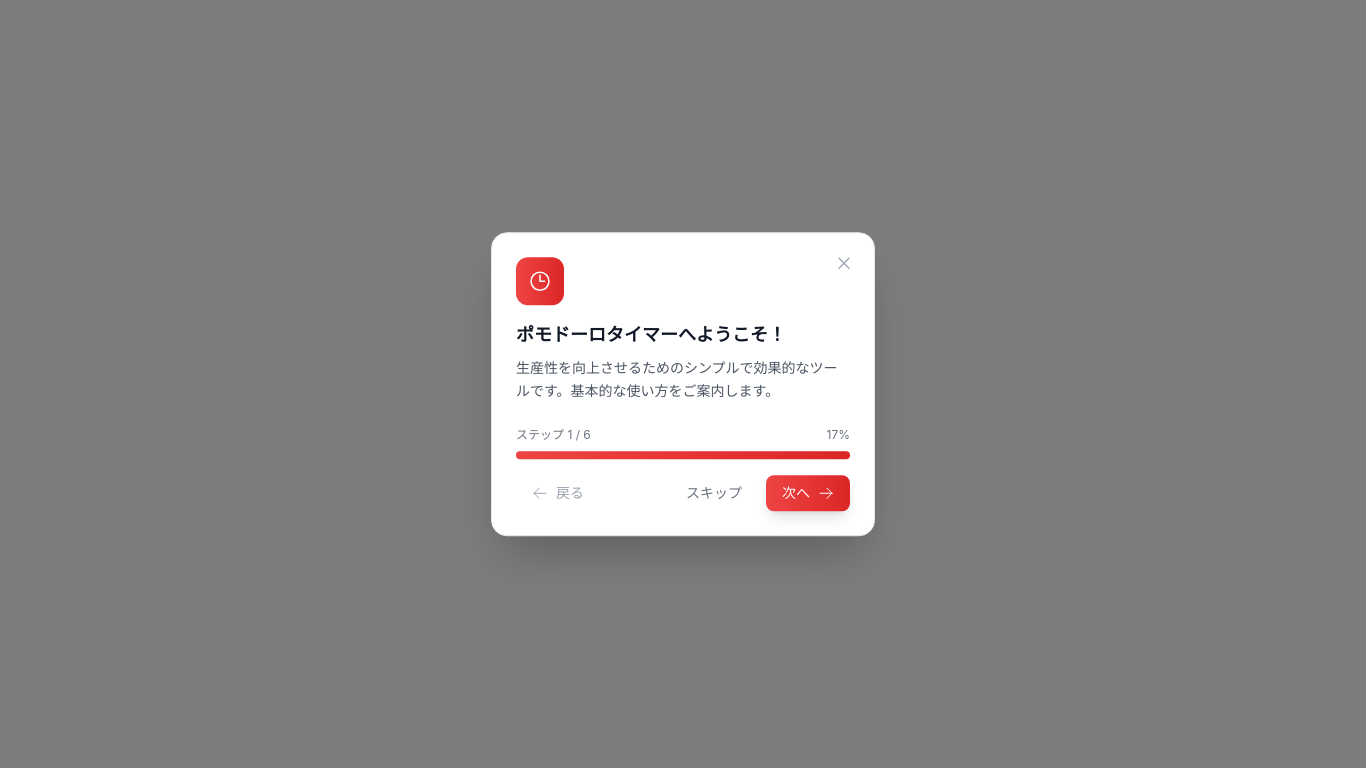
Test: OnboardingTour › 次へボタンをクリックすると次のステップに進む
The image size is (1366, 768).
Click the button "次へ". click: (808, 493)
box: 766,475 -> 850,511
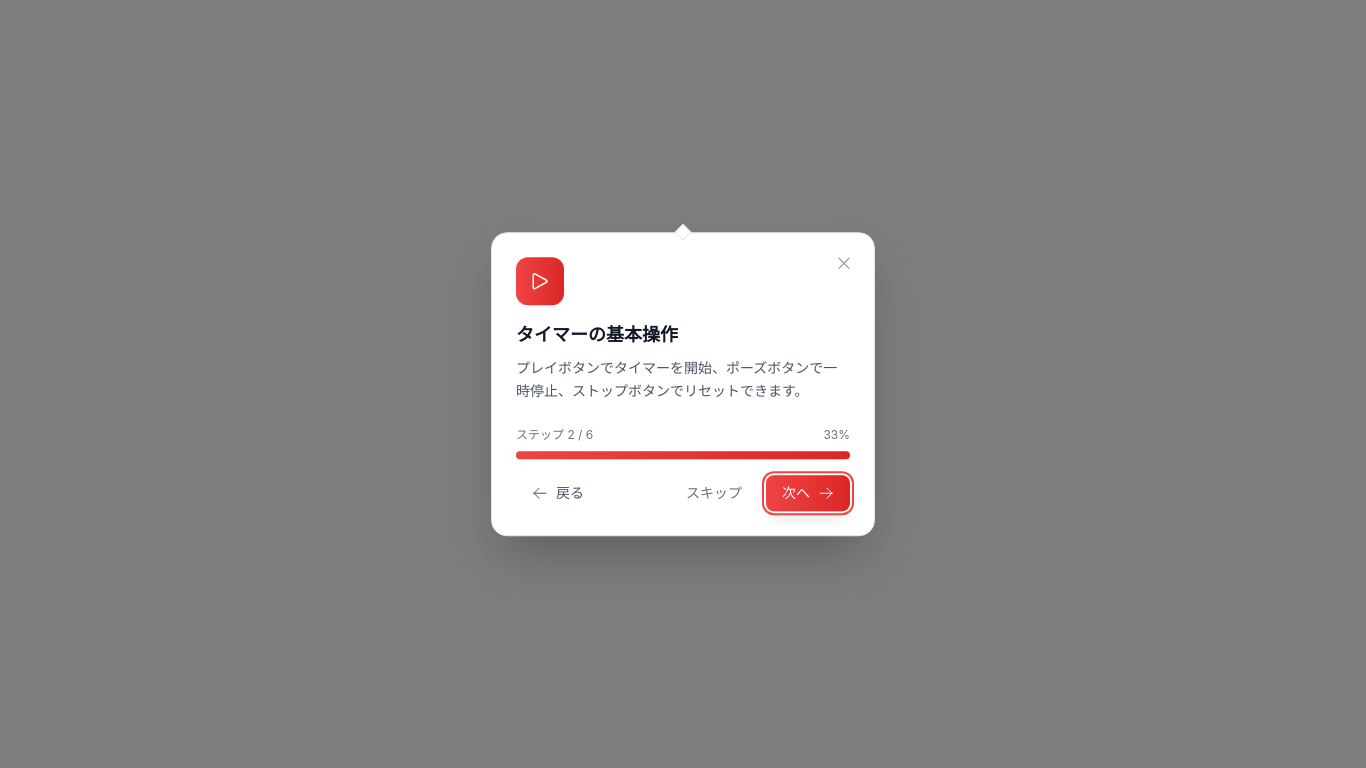
Now the heading "タイマーの基本操作" is shown, box 516,324 -> 678,345
Now the text "ステップ 2 / 6" is shown, box 516,427 -> 593,443
